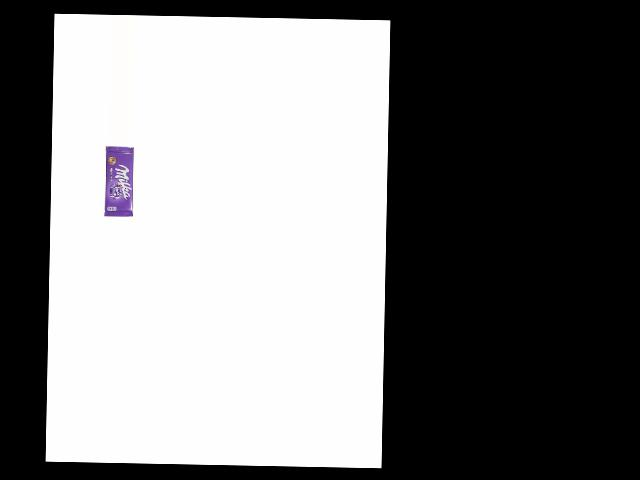chocolate: (100, 145, 135, 220)
